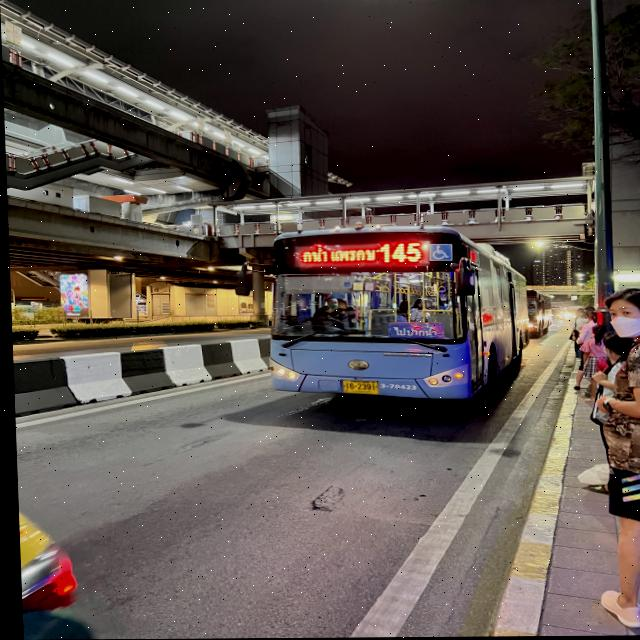BMTA-bus: (262, 225, 528, 406)
Bus-Line-Number: (374, 241, 423, 265)
Destination-Sign-Normal: (387, 322, 443, 341)
